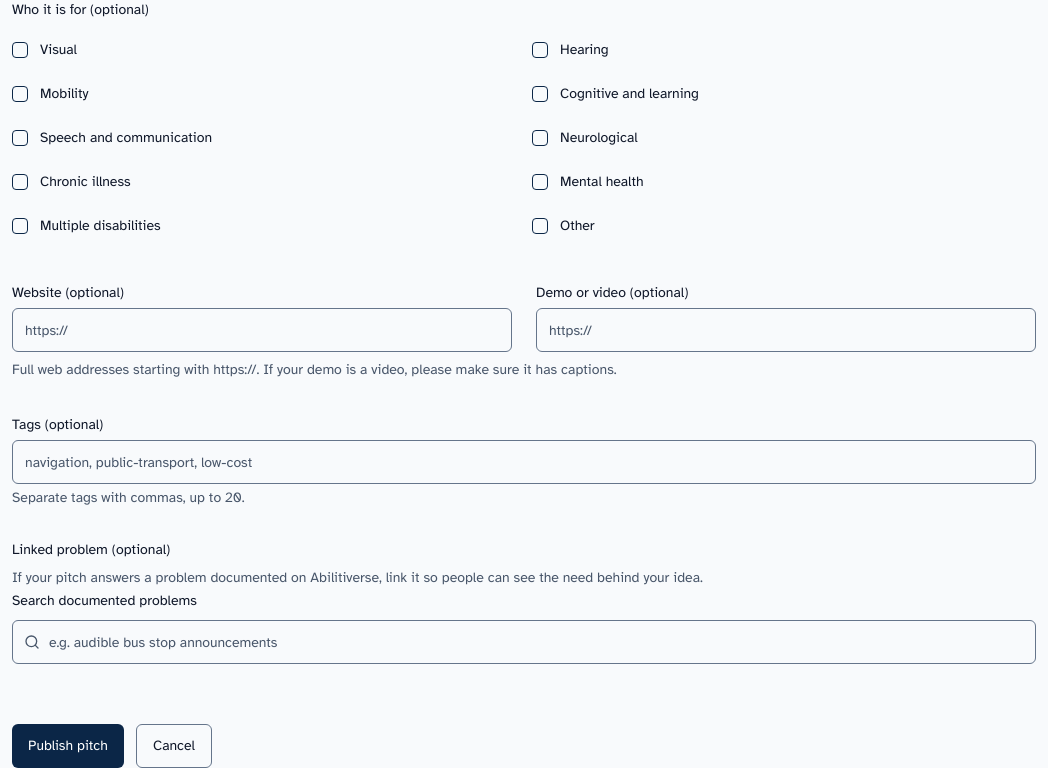
Test: PitchForm › shows, links and focuses errors on an invalid submit, still without violations
(page scrolled)
Click the button "Publish pitch" at (68,746), box [12,724,124,767]
(page scrolled)
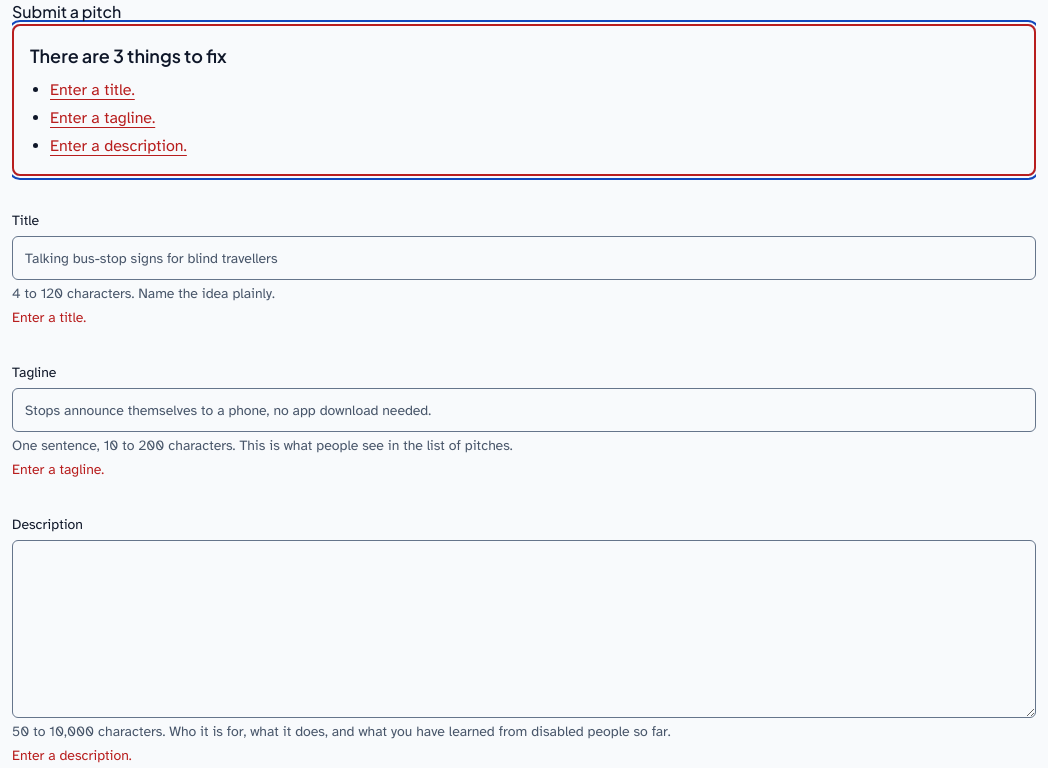
Now the element showing "Enter a title." is shown, box [11,308,86,326]
